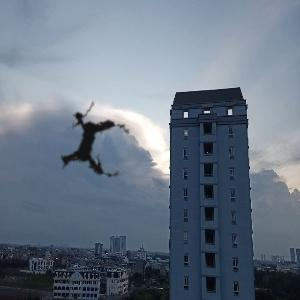drone: (21, 70, 163, 212)
